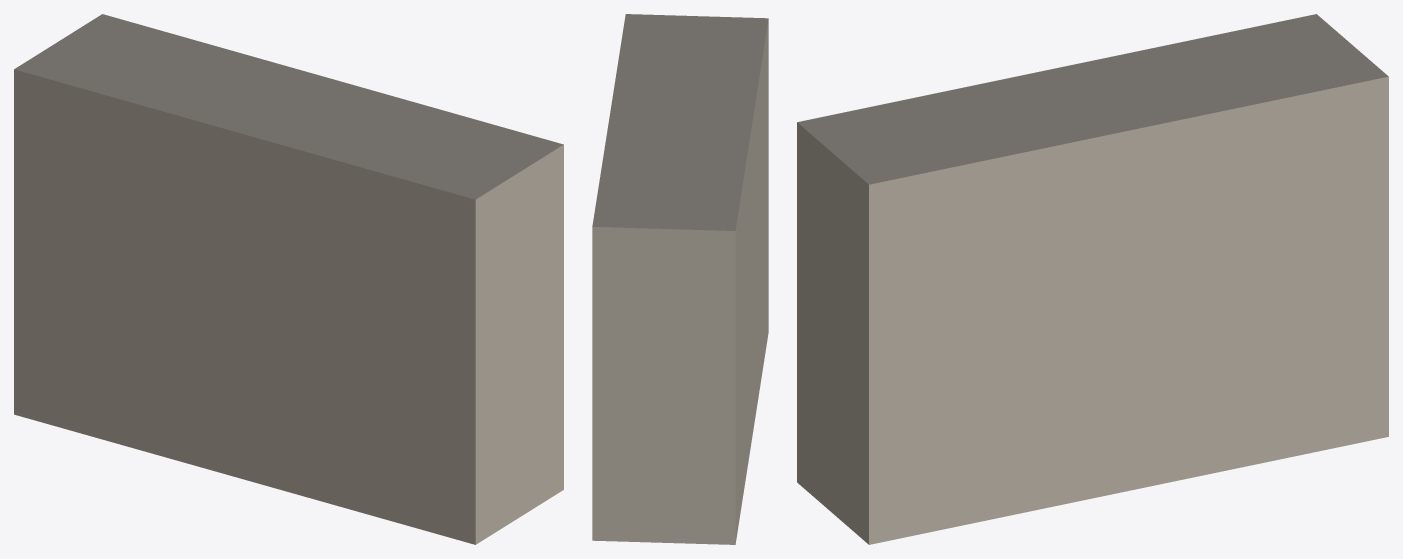
3 renders of one model, left to right at view 1: azimuth 30°, elevation 25°; view 2: azimuth 150°, elevation 25°; view 3: azimuth 270°, elevation 25°, orthographic. The views are drawn at different scales.
Visible parts, largest first — view 1: HP-w378107194; view 2: HP-w378107194; view 3: HP-w378107194.
Boxes of the visible parts, x1,y1,x2,y2 form: HP-w378107194: [14, 14, 563, 544]; HP-w378107194: [592, 14, 768, 544]; HP-w378107194: [797, 14, 1388, 544].
Bounding box in the file's own units: 18.29 × 18 × 26.8.
